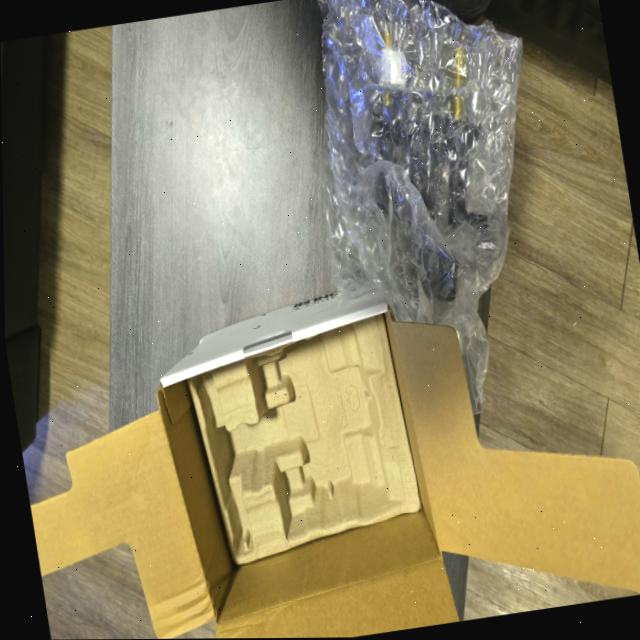9c: (318, 0, 522, 415)
